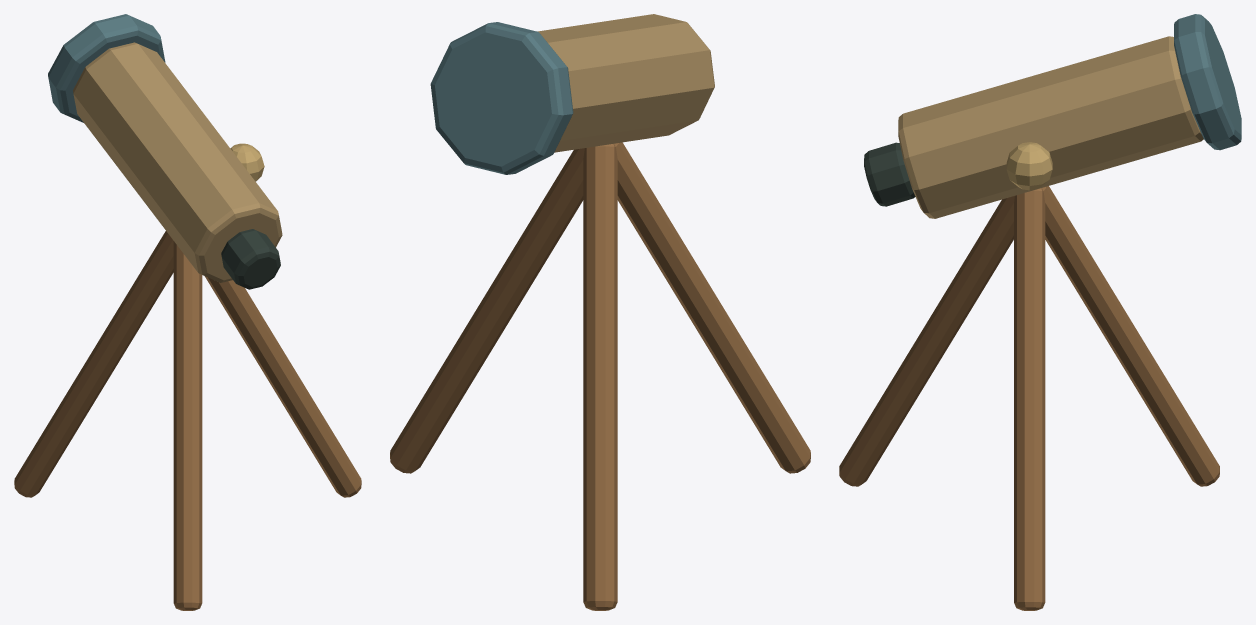
Rendered from star-scope.glb.
The picture shows the model from 3 angles, left to right: view 1: azimuth 30°, elevation 25°; view 2: azimuth 150°, elevation 25°; view 3: azimuth 270°, elevation 25°; orthographic projection. The views are drawn at different scales.
Visible parts, largest first — view 1: discovery_Motion.012_Mesh, star-scope_Discovery_Mesh; view 2: star-scope_Discovery_Mesh, discovery_Motion.012_Mesh; view 3: discovery_Motion.012_Mesh, star-scope_Discovery_Mesh.
Part boxes in pixels (box(x1,y1,x2,y2)): discovery_Motion.012_Mesh: box(48, 14, 282, 289); star-scope_Discovery_Mesh: box(14, 231, 361, 610); star-scope_Discovery_Mesh: box(390, 142, 810, 610); discovery_Motion.012_Mesh: box(430, 14, 714, 174); discovery_Motion.012_Mesh: box(864, 14, 1241, 218); star-scope_Discovery_Mesh: box(839, 186, 1219, 610).
Size of the model in its own units: 0.9664 by 1.61 by 1.16.
